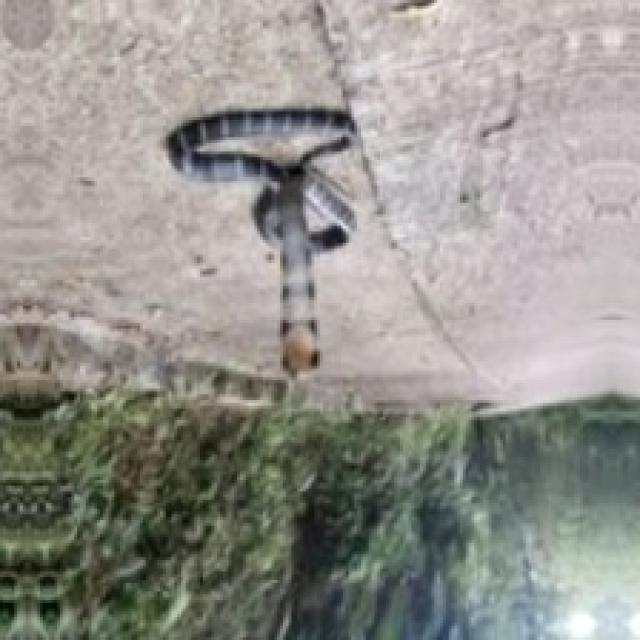king cobra: (169, 109, 351, 374)
